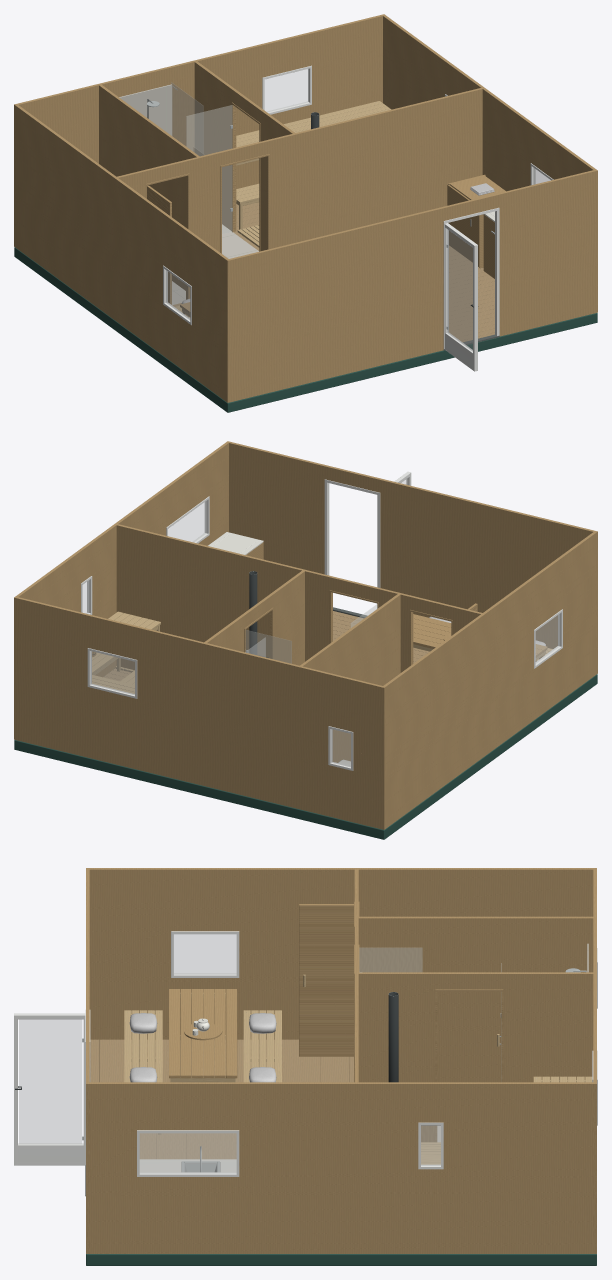
3 renders of one model, top to bottom at view 1: azimuth 30°, elevation 25°; view 2: azimuth 150°, elevation 25°; view 3: azimuth 270°, elevation 25°, orthographic. The views are drawn at different scales.
Visible parts, largest first — view 1: DP08-W01, DP08-W03, DP08-W07, DP08-W02, DP08-W04, Dimensioned foundation, DP08-W05, DP08-W06, Hinge_DP08-D04, Floor lounge, Shower tray and wall mounted column, Hinge_DP08-D01 (+11 smaller); view 2: DP08-W02, DP08-W03, DP08-W01, DP08-W07, DP08-W04, Dimensioned foundation, DP08-W05, DP08-W06, Window p8_i2473, Door entry p8_i2409, Window p8_i2476, С1 table (+7 smaller); view 3: DP08-W04, DP08-W03, DP08-W05, DP08-W06, Hinge_DP08-D04, Hinge_DP08-D03, Floor lounge, С1 table, Dimensioned foundation, Window p8_i2476, Window p8_i2477, Л2 bench (+10 smaller).
Boxes of the visible parts, box(x1,y1,x2,y2) form: DP08-W01: box(226, 169, 597, 402); DP08-W03: box(15, 105, 228, 401); DP08-W07: box(117, 88, 482, 297); DP08-W02: box(14, 14, 385, 247); DP08-W04: box(383, 15, 595, 191); Dimensioned foundation: box(14, 247, 597, 412); DP08-W05: box(99, 84, 199, 290); DP08-W06: box(194, 61, 294, 250); Hinge_DP08-D04: box(444, 223, 478, 371); Floor lounge: box(174, 245, 494, 341); Shower tray and wall mounted column: box(119, 82, 203, 152); Hinge_DP08-D01: box(186, 105, 232, 233); DP08-W02: box(14, 596, 385, 829); DP08-W03: box(383, 532, 596, 828); DP08-W01: box(226, 441, 597, 674); DP08-W07: box(116, 524, 482, 672); DP08-W04: box(16, 442, 228, 677); Dimensioned foundation: box(14, 674, 597, 839); DP08-W05: box(300, 594, 400, 762); DP08-W06: box(204, 570, 304, 665); Window p8_i2473: box(87, 648, 137, 698); Door entry p8_i2409: box(324, 479, 380, 618); Window p8_i2476: box(166, 496, 209, 543); С1 table: box(413, 614, 547, 659); DP08-W04: box(89, 1082, 593, 1253); DP08-W03: box(89, 868, 593, 1039); DP08-W05: box(358, 916, 593, 1082); DP08-W06: box(358, 972, 593, 1142); Hinge_DP08-D04: box(14, 1013, 85, 1165); Hinge_DP08-D03: box(299, 904, 353, 1056); Floor lounge: box(90, 1039, 353, 1159); С1 table: box(169, 989, 237, 1078); Dimensioned foundation: box(86, 1254, 596, 1265); Window p8_i2476: box(137, 1130, 239, 1176); Window p8_i2477: box(171, 931, 239, 977); Л2 bench: box(124, 1010, 162, 1134).
Size of the model in its own units: 6.02 by 2.36 by 6.85.
Materials: 33 (14 with a texture image).
